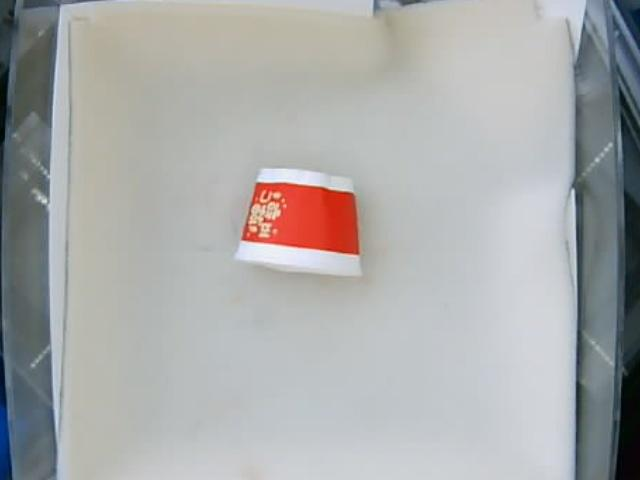Cup: (237, 167, 363, 280)
